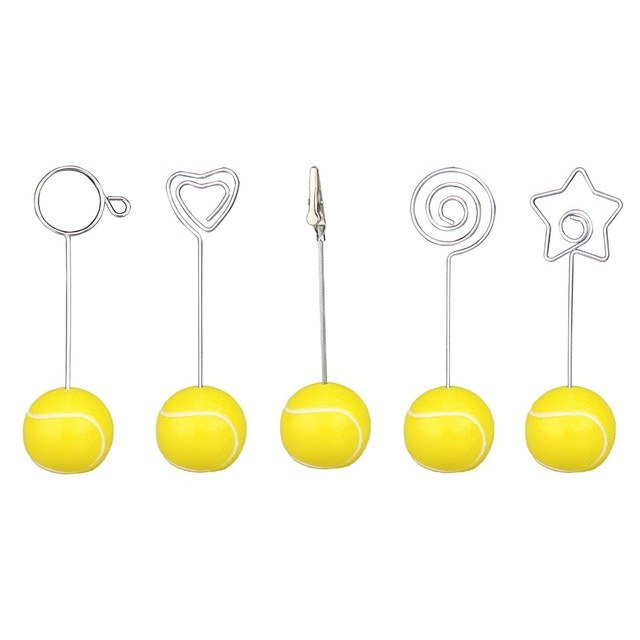tennis_ball: (22, 388, 117, 479), (403, 385, 497, 475), (278, 380, 373, 469), (154, 382, 247, 471), (525, 385, 618, 473)
